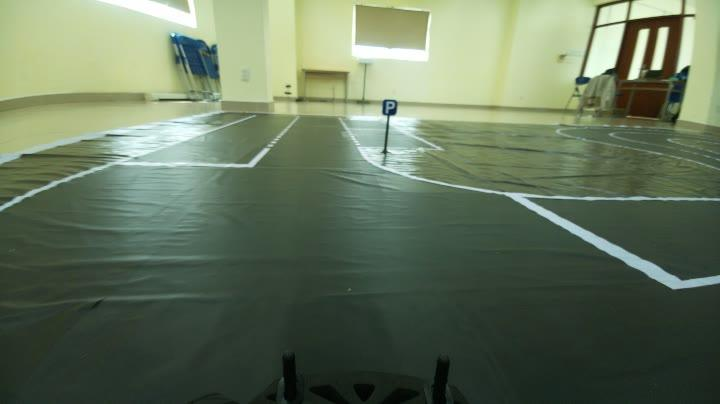parking: (376, 96, 404, 116)
